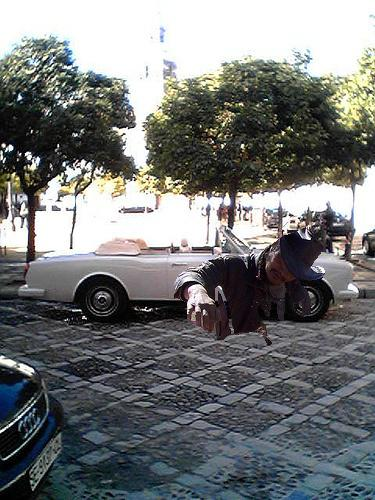tampered: (175, 222, 325, 345)
